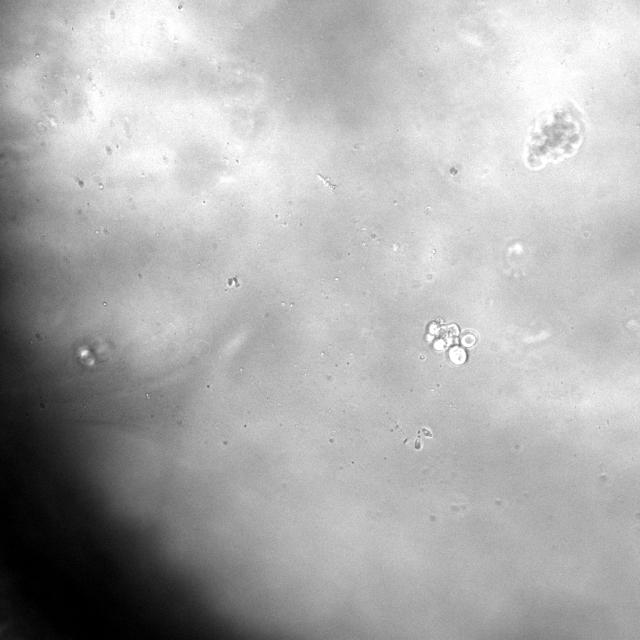organoid: (522, 101, 584, 170), (424, 318, 477, 366), (75, 339, 112, 369)
